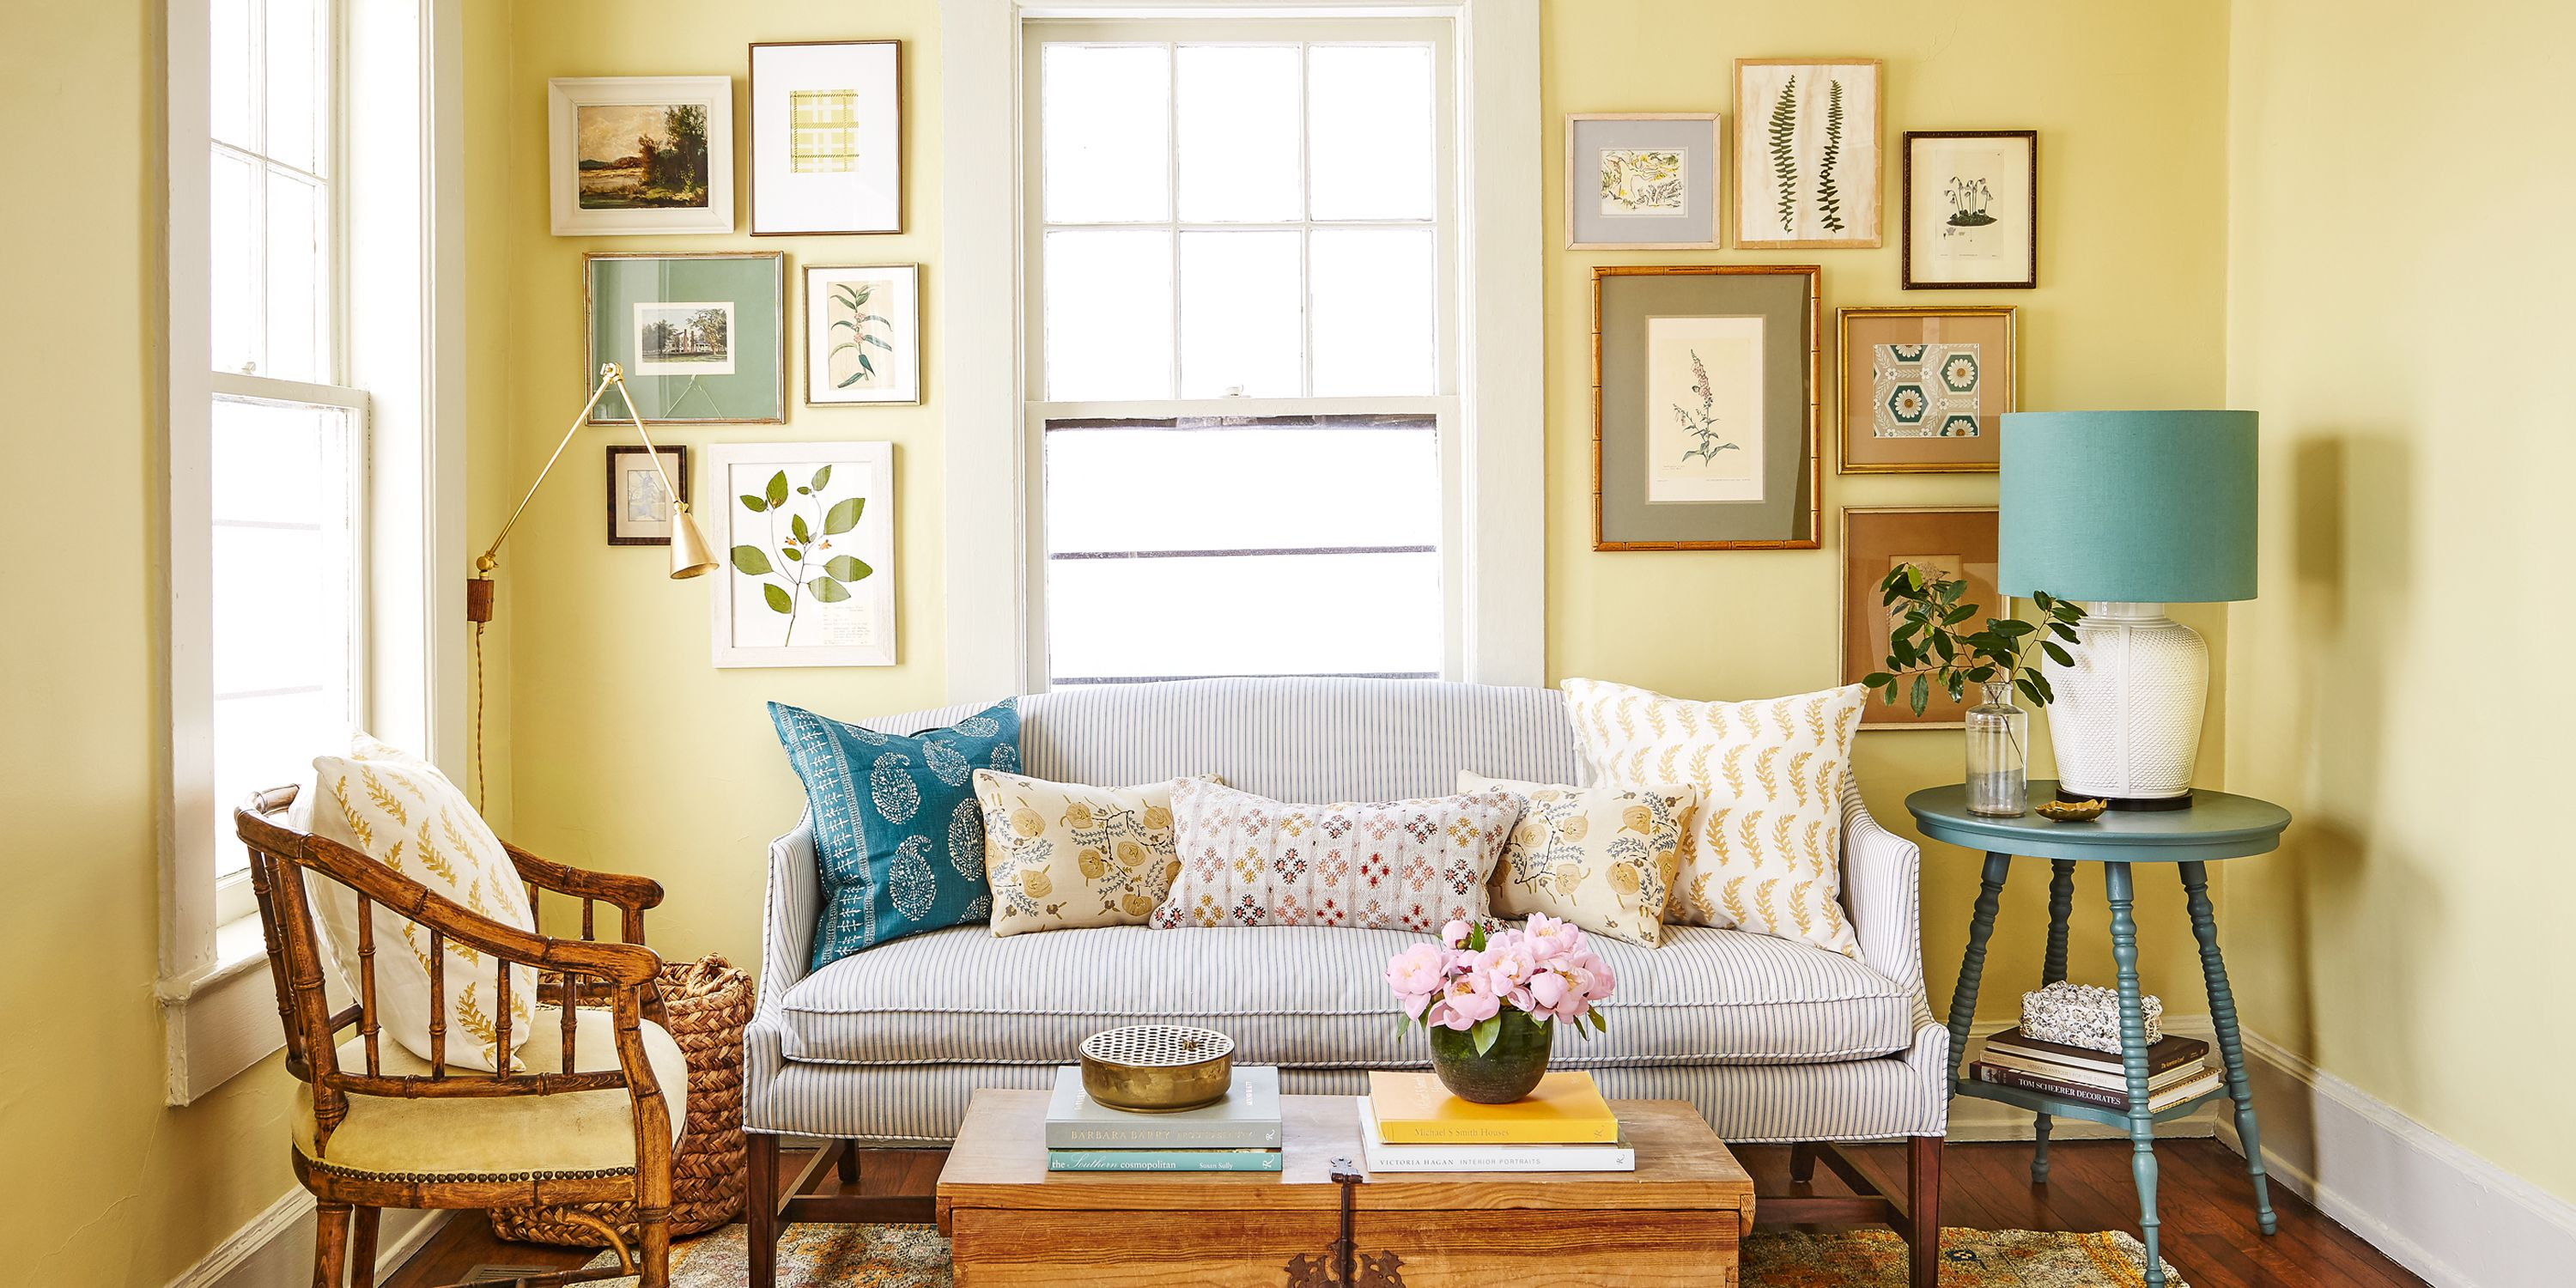buku: (1988, 1017, 2219, 1109)
kursi: (233, 769, 674, 1288)
lampu: (1999, 404, 2256, 802), (467, 401, 710, 792)
meja: (954, 1088, 1750, 1288)
sova: (762, 680, 1958, 1276)
tanaman: (1879, 557, 2063, 792), (1387, 935, 1589, 1106)
